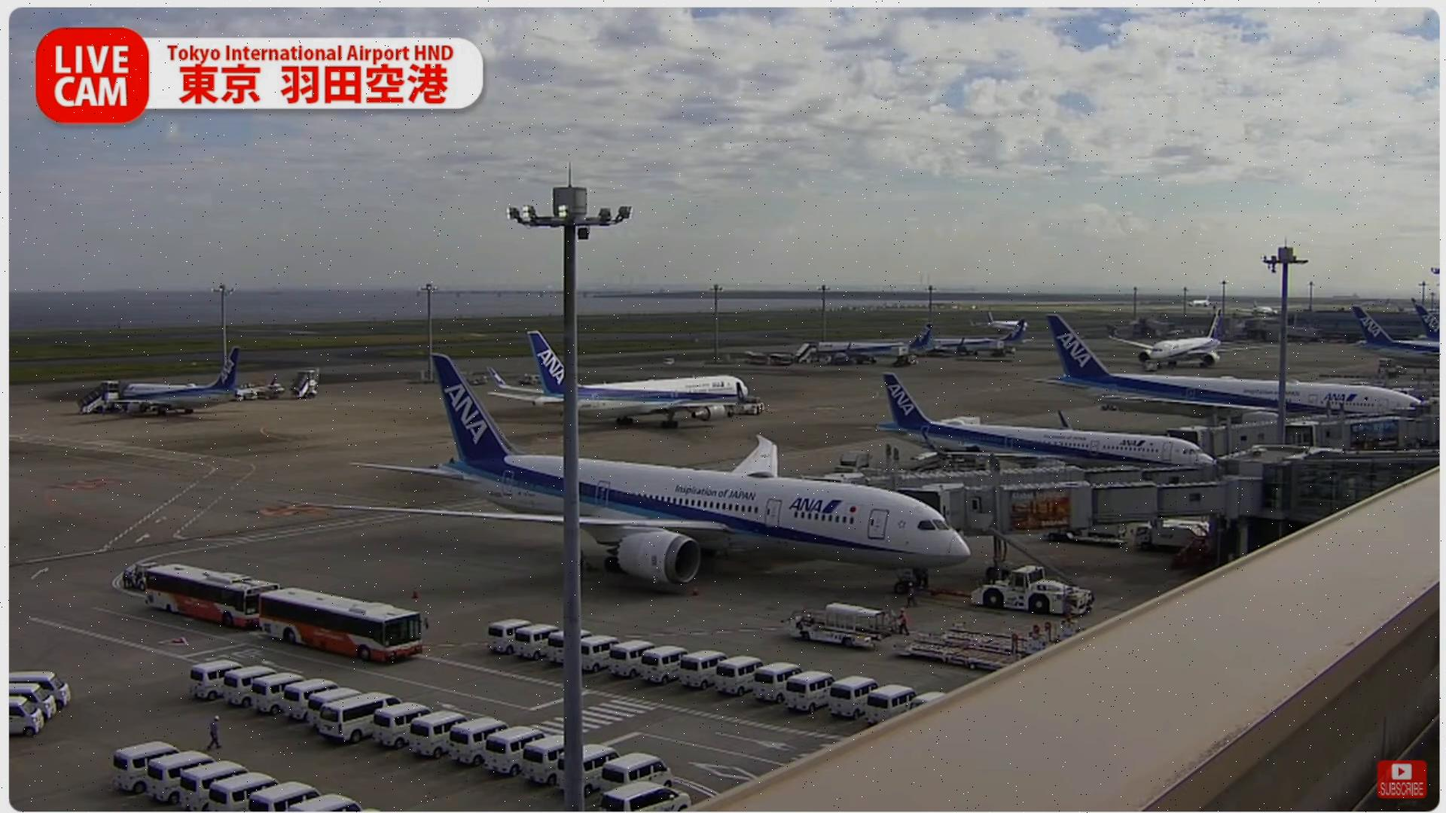APS: (969, 564, 1106, 619)
Aerobridge: (913, 476, 1264, 540), (843, 457, 1217, 497)
Airplane: (330, 354, 973, 599)
JCPL: (895, 622, 1042, 671), (934, 610, 1089, 654)
Skyloader: (788, 603, 887, 651)
Window: (1288, 457, 1440, 523)
